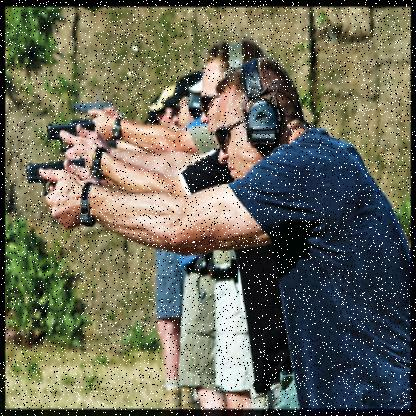pistol: (24, 156, 86, 197), (70, 99, 113, 147), (46, 117, 96, 154)
